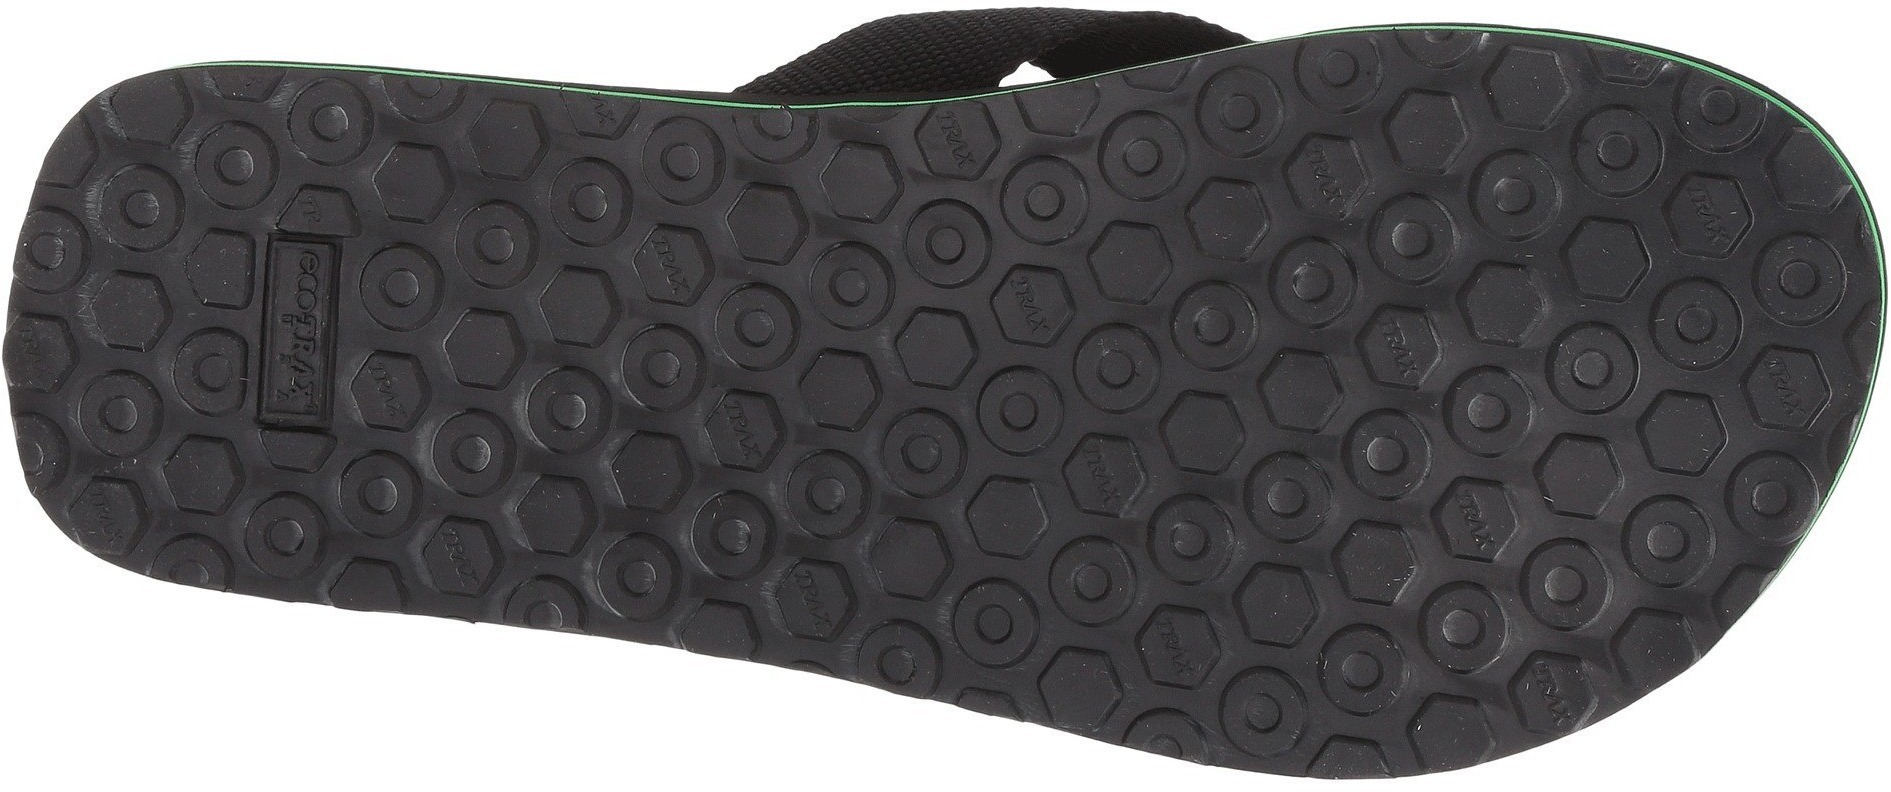circle: (1084, 80, 1709, 646), (1148, 154, 1602, 592), (816, 205, 1113, 488), (989, 135, 1310, 382), (351, 134, 643, 350), (815, 128, 1070, 374), (435, 401, 632, 599), (239, 223, 357, 442), (942, 568, 1055, 686), (680, 473, 781, 594), (88, 152, 197, 256), (74, 363, 169, 465)
polygon: (1084, 77, 1706, 647), (1148, 154, 1602, 592), (989, 135, 1310, 382), (391, 358, 673, 614), (351, 134, 643, 350), (815, 128, 1070, 374), (435, 401, 632, 599)
quad: (191, 225, 406, 420), (217, 240, 387, 420), (239, 223, 357, 442)
text: (1148, 154, 1602, 592), (815, 128, 1070, 374), (435, 401, 632, 599), (239, 223, 357, 442), (279, 294, 327, 348), (281, 244, 329, 293), (273, 350, 320, 398)
